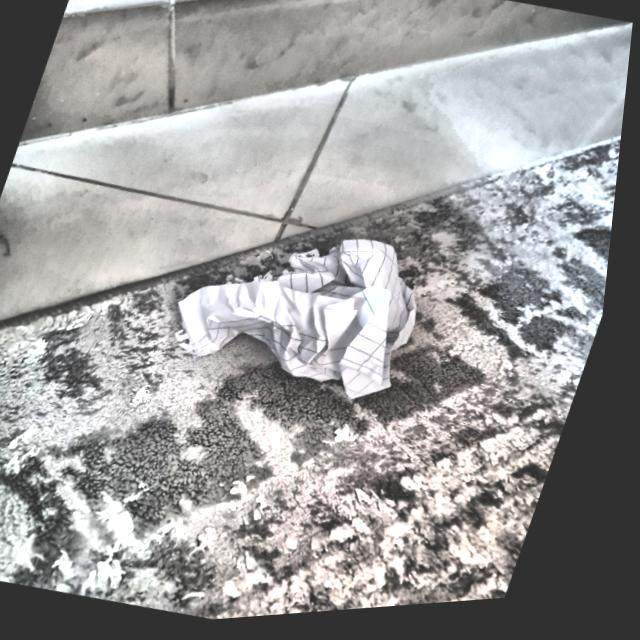Paper: (159, 195, 464, 423)
